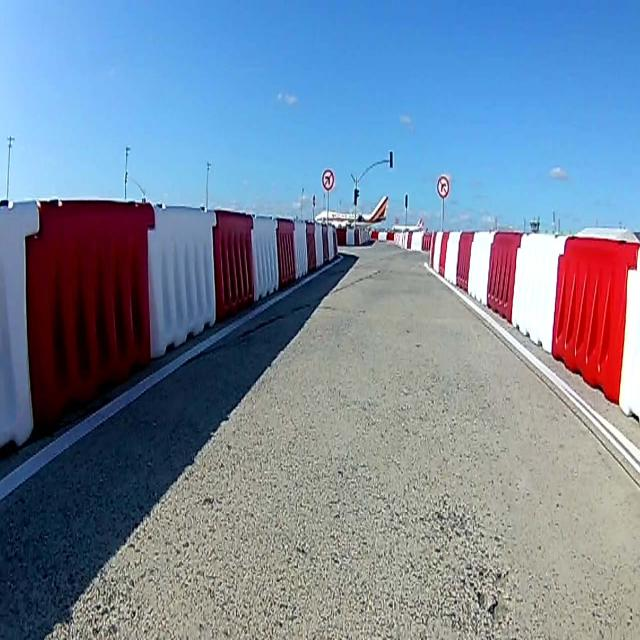sagadonulmez: (436, 174, 449, 199)
soladonulmez: (322, 168, 336, 192)
